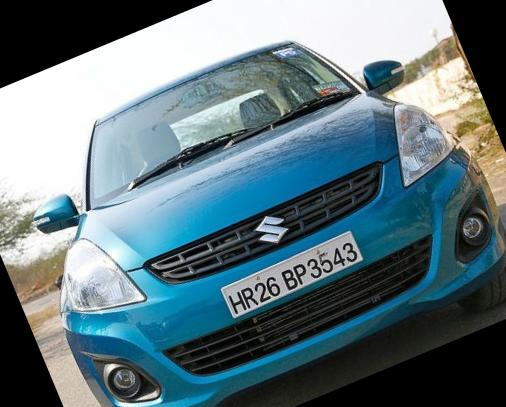plate: (208, 225, 382, 340)
